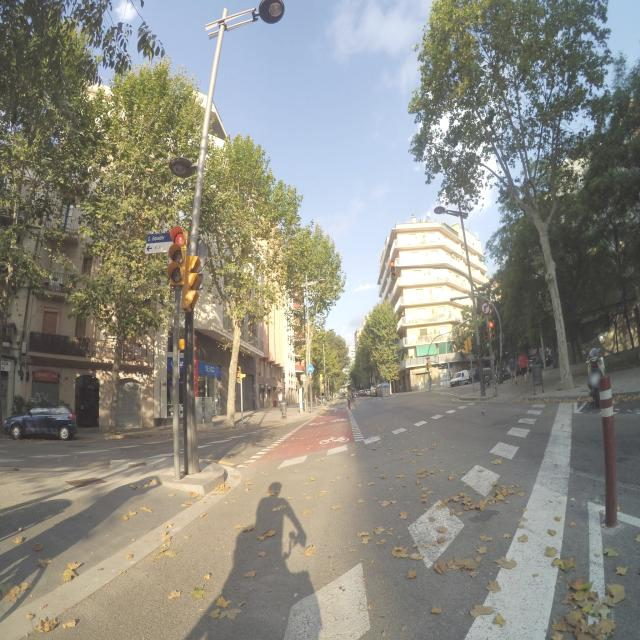bike: (585, 334, 607, 411)
car: (2, 405, 78, 441), (449, 370, 472, 387)
